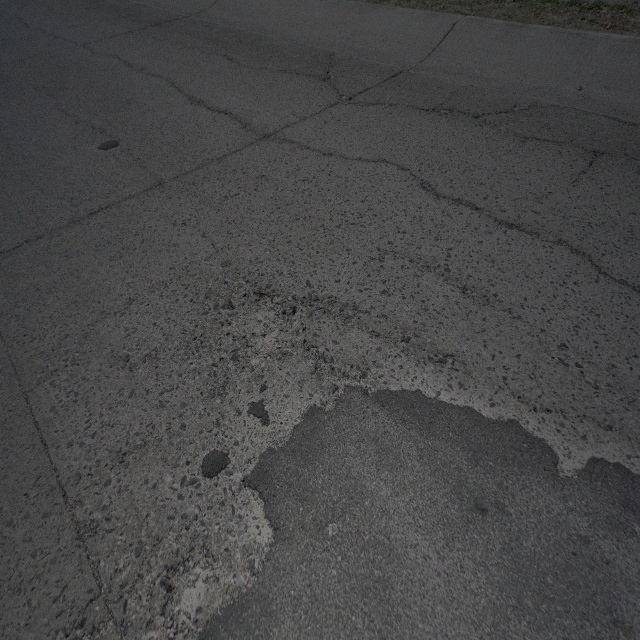pothole: (169, 482, 280, 630), (226, 280, 308, 361)
